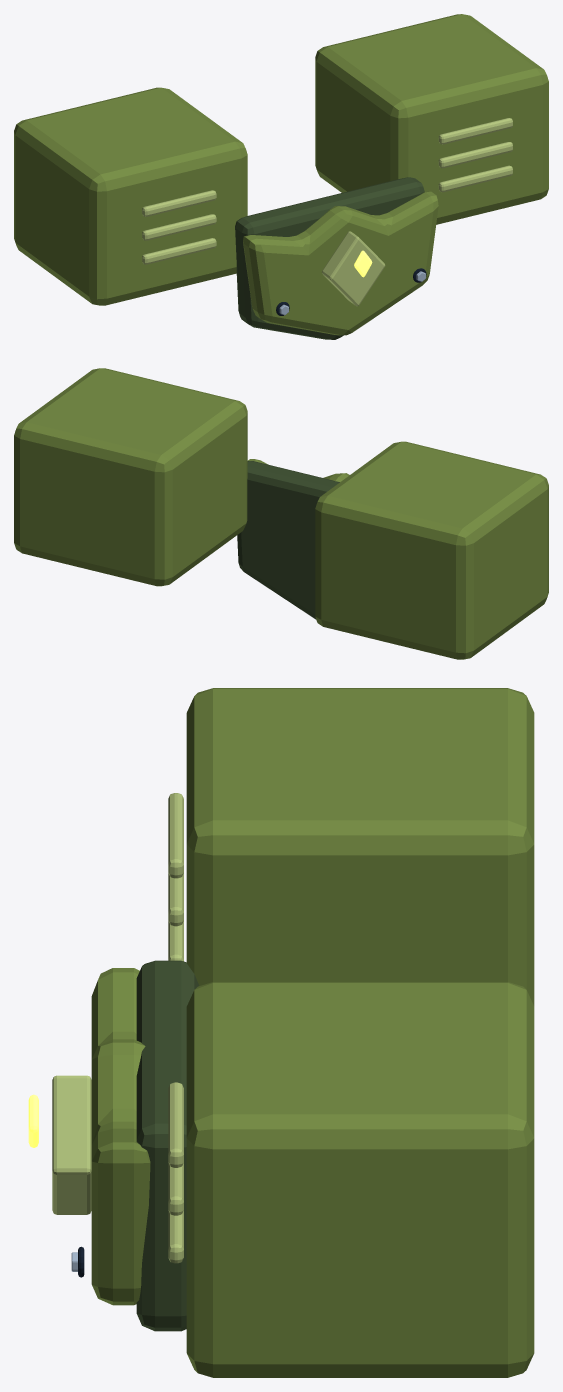
File: bulwark.glb
3 renders of one model, top to bottom at view 1: azimuth 30°, elevation 25°; view 2: azimuth 150°, elevation 25°; view 3: azimuth 270°, elevation 25°, orthographic. The views are drawn at different scales.
Parts seen in each view (by area): view 1: ModuleArmor; view 2: ModuleArmor; view 3: ModuleArmor.
Part boxes in pixels (x1,y1,x2,y2): ModuleArmor: (14,14,548,339); ModuleArmor: (14,368,548,659); ModuleArmor: (28,688,534,1377).
Size of the model in its own units: 2.01 by 0.8675 by 0.96.
